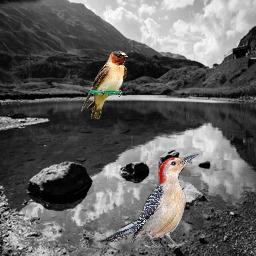Swallow: (81, 51, 129, 119)
Woodpecker: (95, 152, 201, 249)
